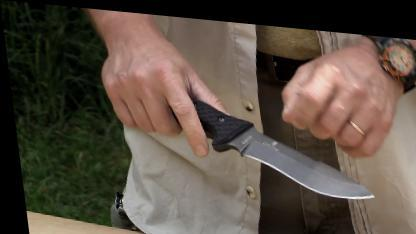knife: (94, 62, 376, 199)
